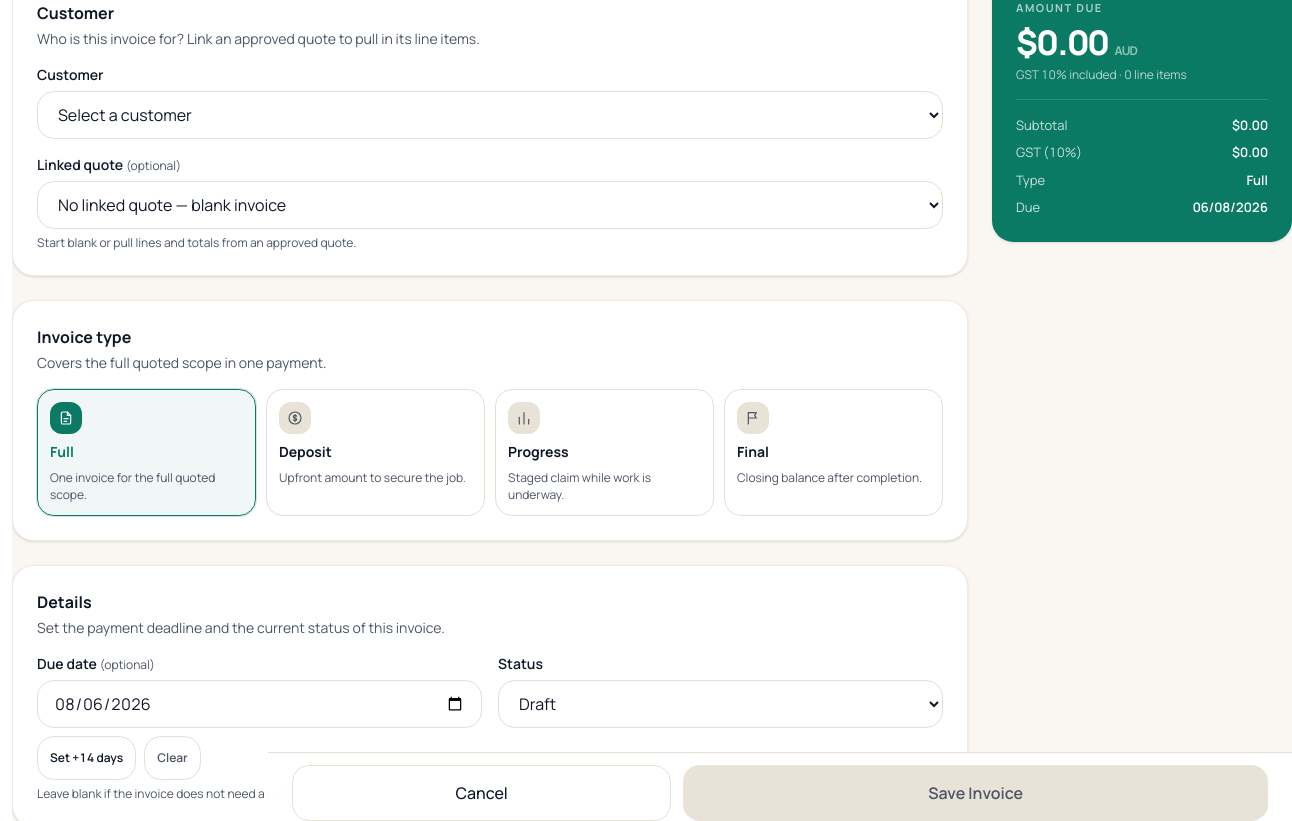
Test: InvoiceForm › shows linked quote context and autofills blank invoice items from included quote items
The image size is (1292, 821).
Select "Harbor Cafe" in the dropdown labelled "Customer" at point(490, 115), box x1=37 y1=91 x2=943 y2=139
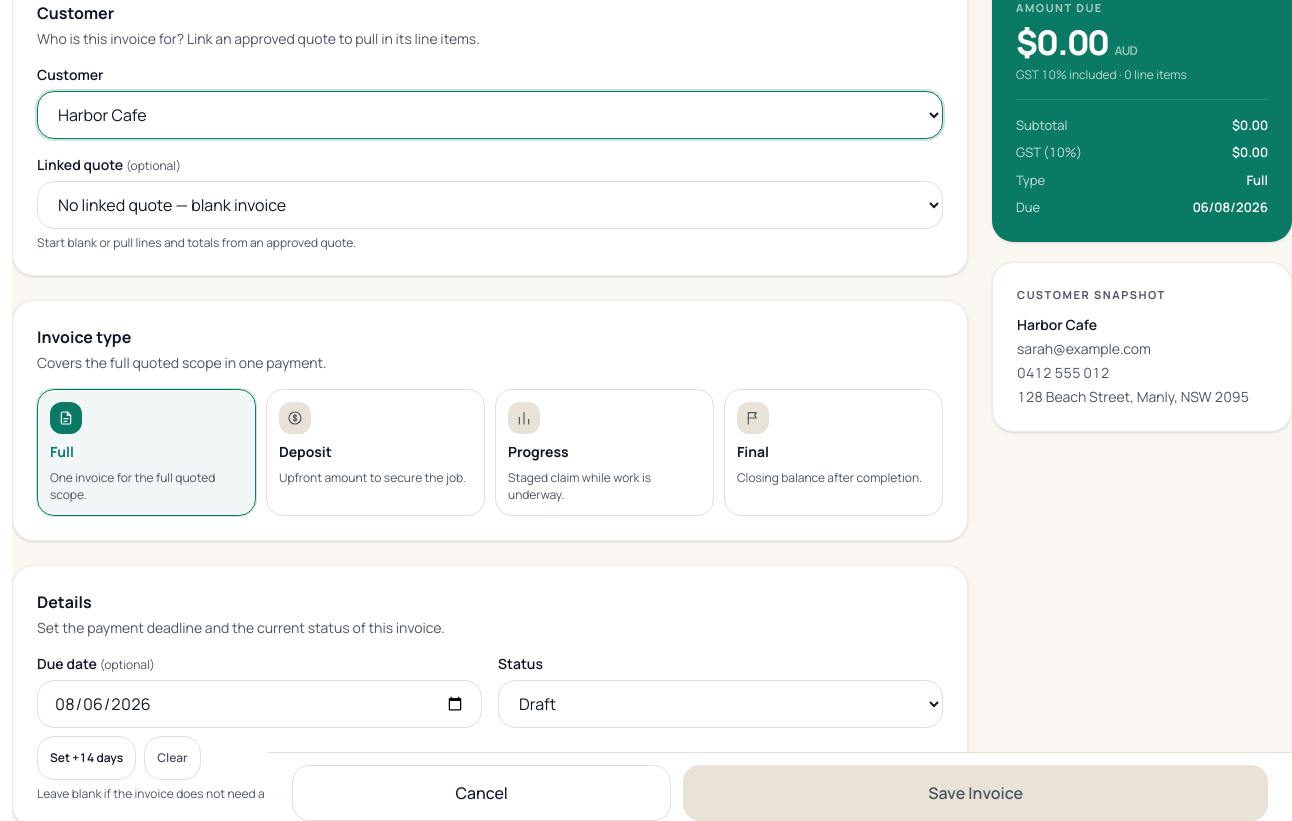
Select "QUO-0004 — Cafe repaint" in the dropdown labelled "Linked quote (optional)" at point(490, 205), box x1=37 y1=181 x2=943 y2=229
(page scrolled)
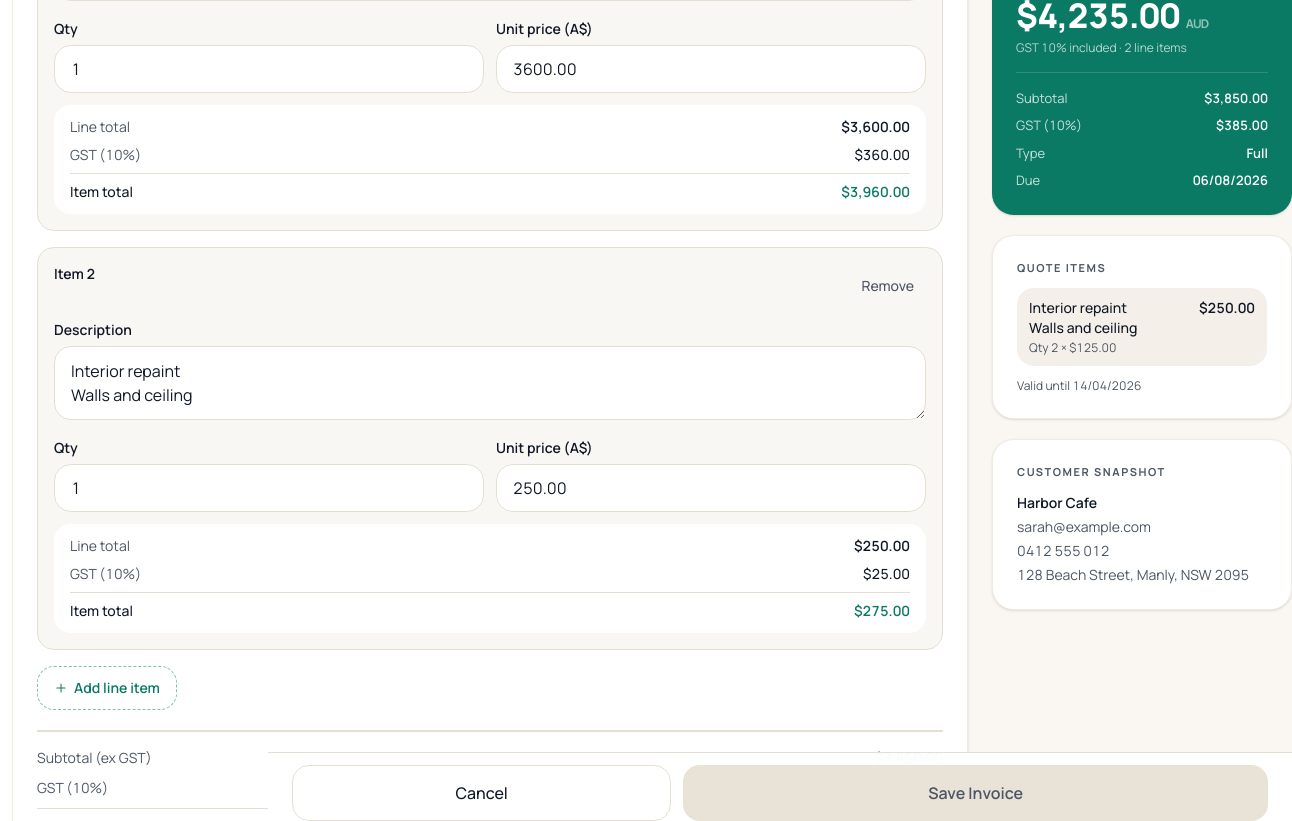
expect the text "Quote items" is shown: met, box x1=1017 y1=260 x2=1106 y2=274
expect the 2nd text box "Walls and ceiling" is shown: met, box x1=54 y1=346 x2=926 y2=420
